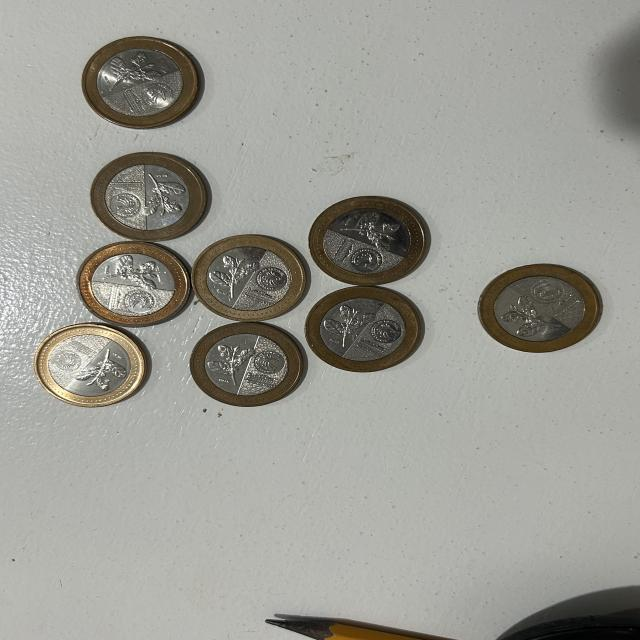20_New_Back: (504, 297, 560, 337), (76, 349, 126, 392), (135, 172, 179, 218), (345, 213, 399, 250), (209, 254, 252, 300), (106, 52, 158, 90), (104, 255, 167, 286), (327, 305, 369, 349), (206, 341, 247, 386)
